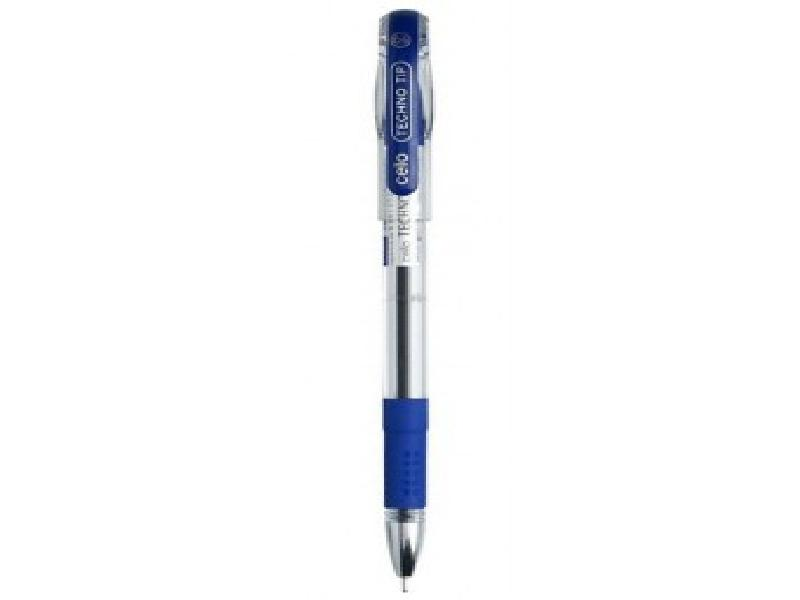pen: (364, 1, 444, 600)
